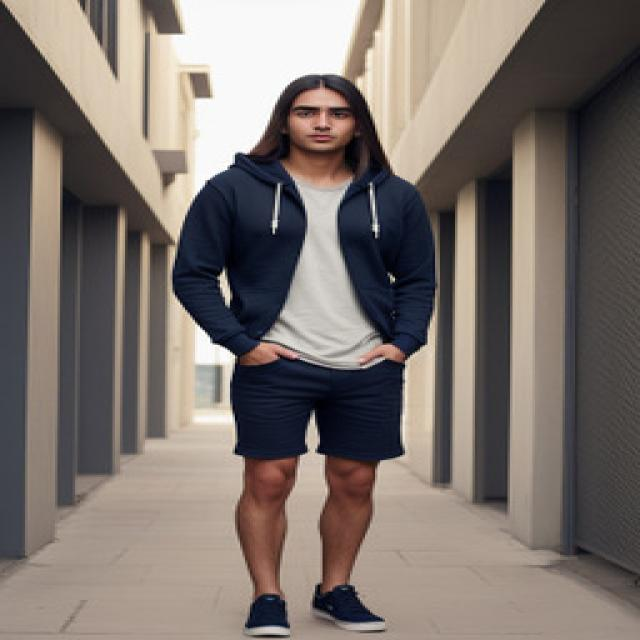Ai human 2: (151, 64, 476, 640)
